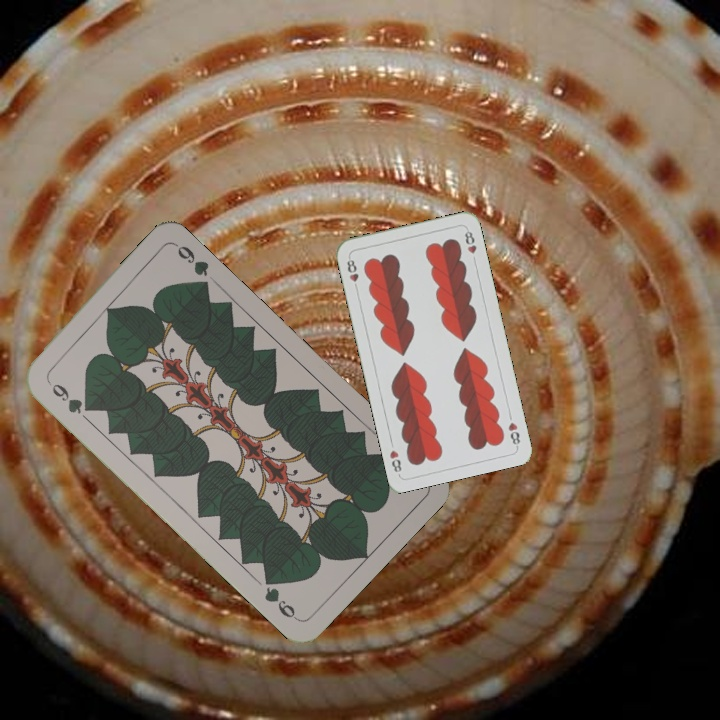G9: (43, 376, 95, 417)
H8: (343, 253, 361, 293), (504, 418, 523, 449)
